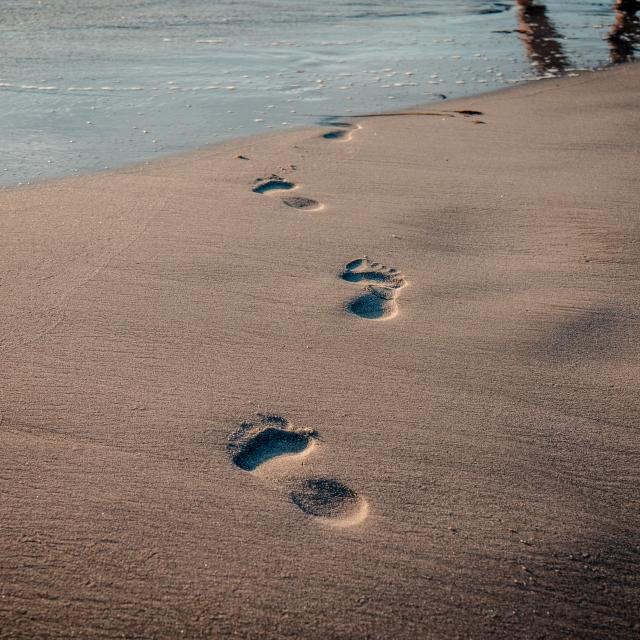human_footprint: (229, 138, 463, 602)
